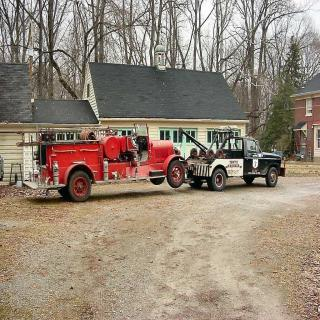Towing_truck: (178, 126, 282, 192)
